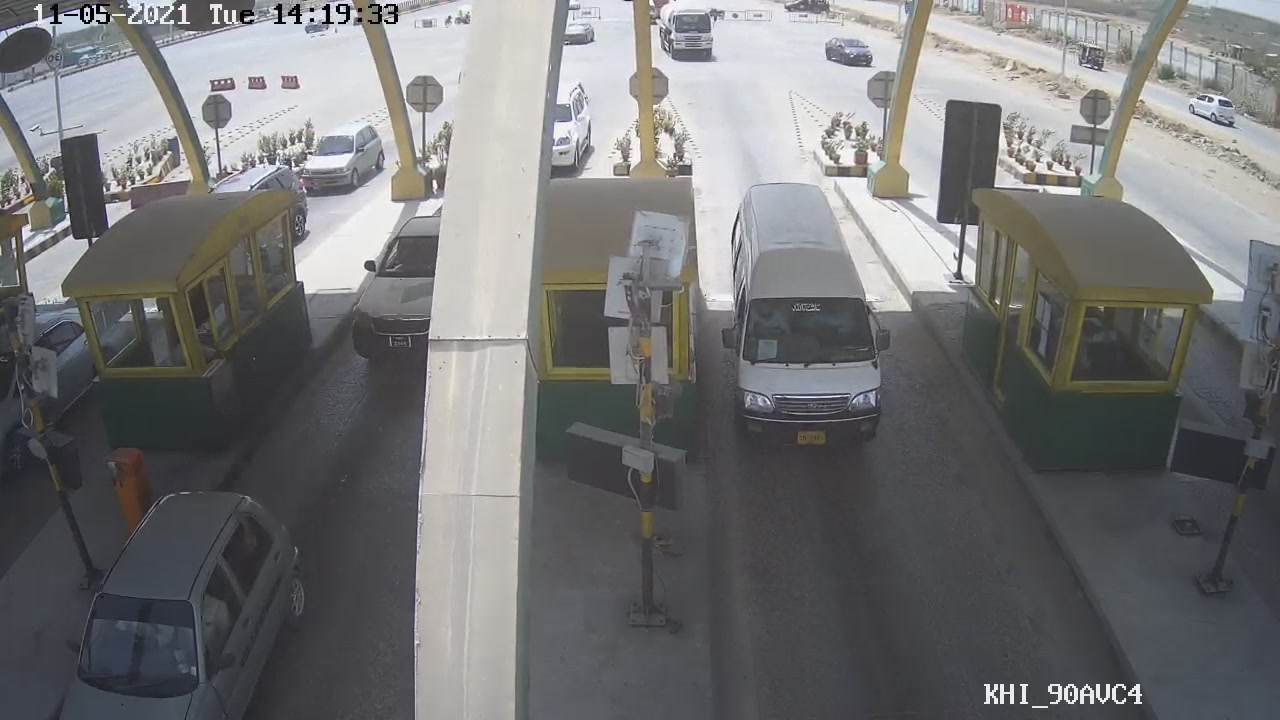F2: (717, 181, 890, 460)
